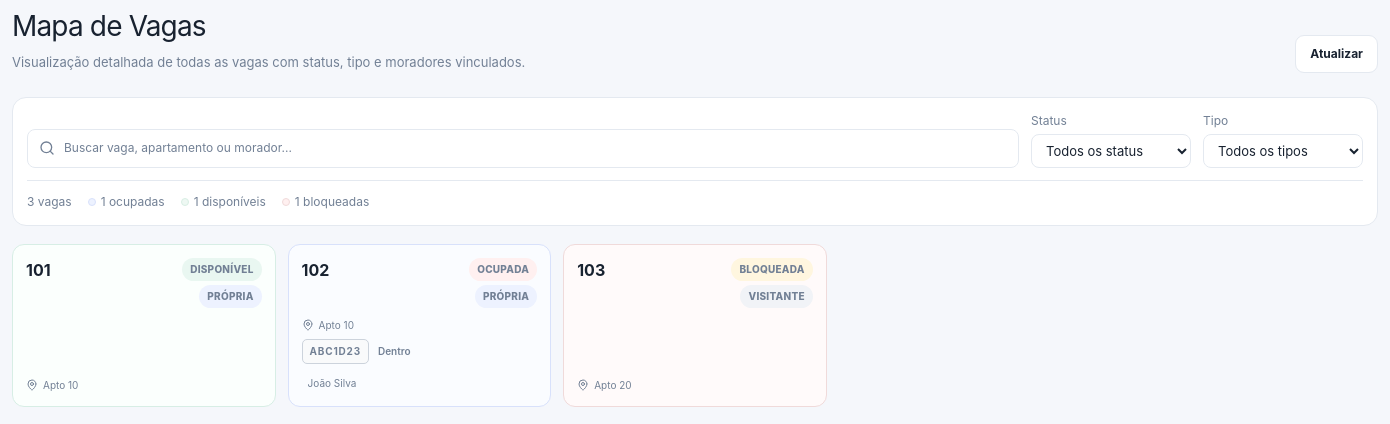
Test case: ParkingMapPage › clears filters when clear button is clicked
Check: the text "101" is shown, box left=26, top=258, right=51, bottom=282
Select "Ocupada" in the dropdown named "Filtrar por status": (1111, 150) left=1031, top=134, right=1191, bottom=168
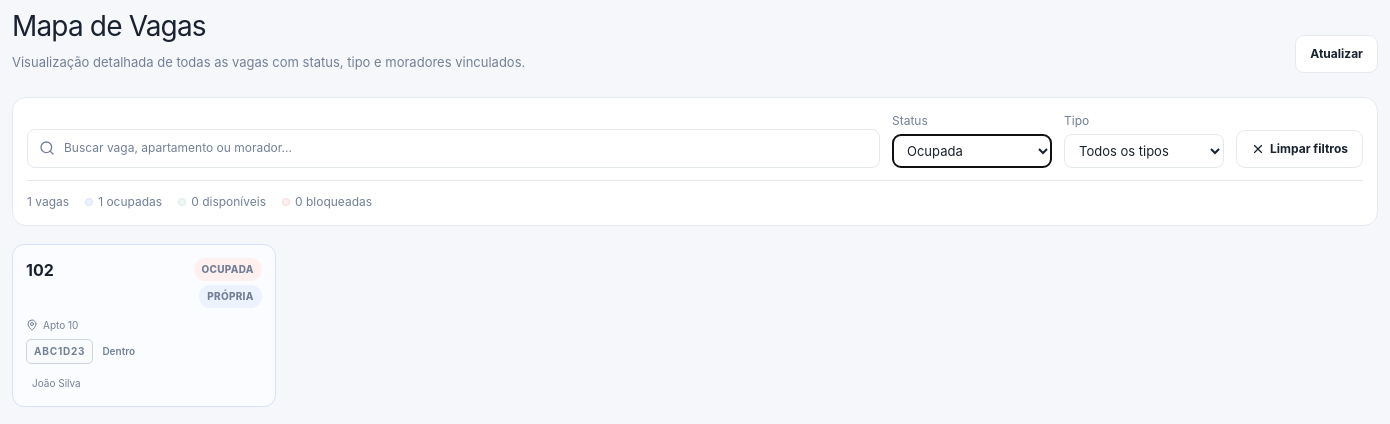
Check: the text "101" is gone
Click the button "Limpar filtros": (1300, 148) left=1236, top=130, right=1363, bottom=168
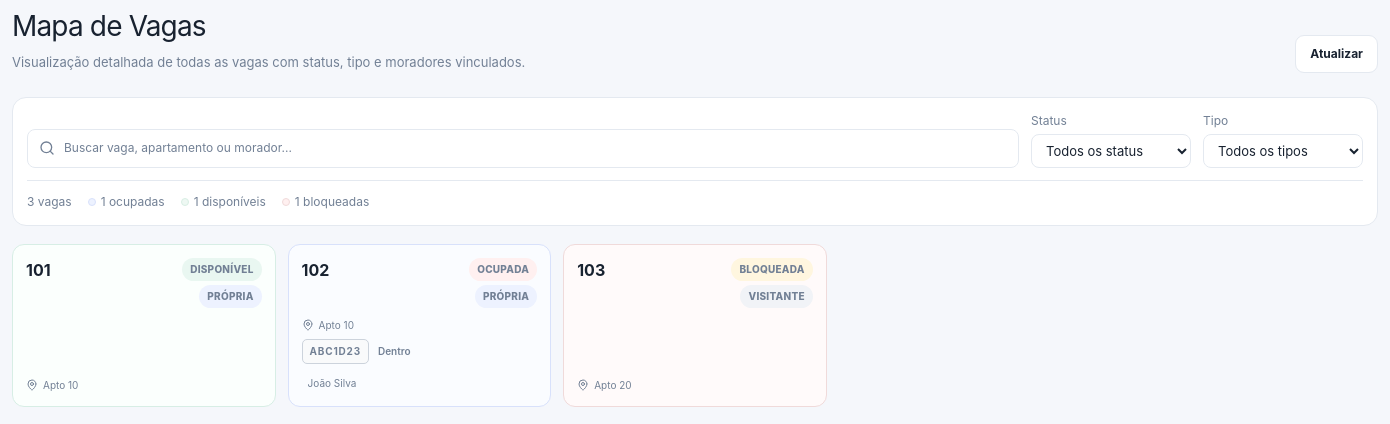
Check: the text "102" is shown, box left=302, top=258, right=329, bottom=282
Check: the text "101" is shown, box left=26, top=258, right=51, bottom=282
